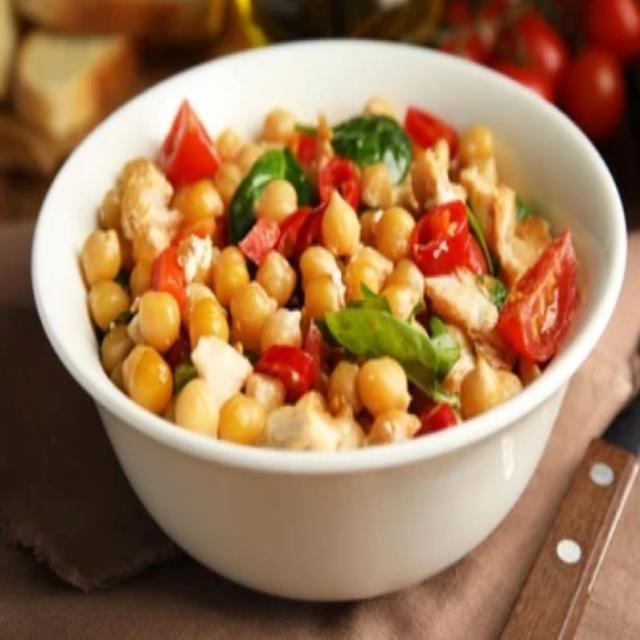SUNDAL: (80, 93, 583, 453)
